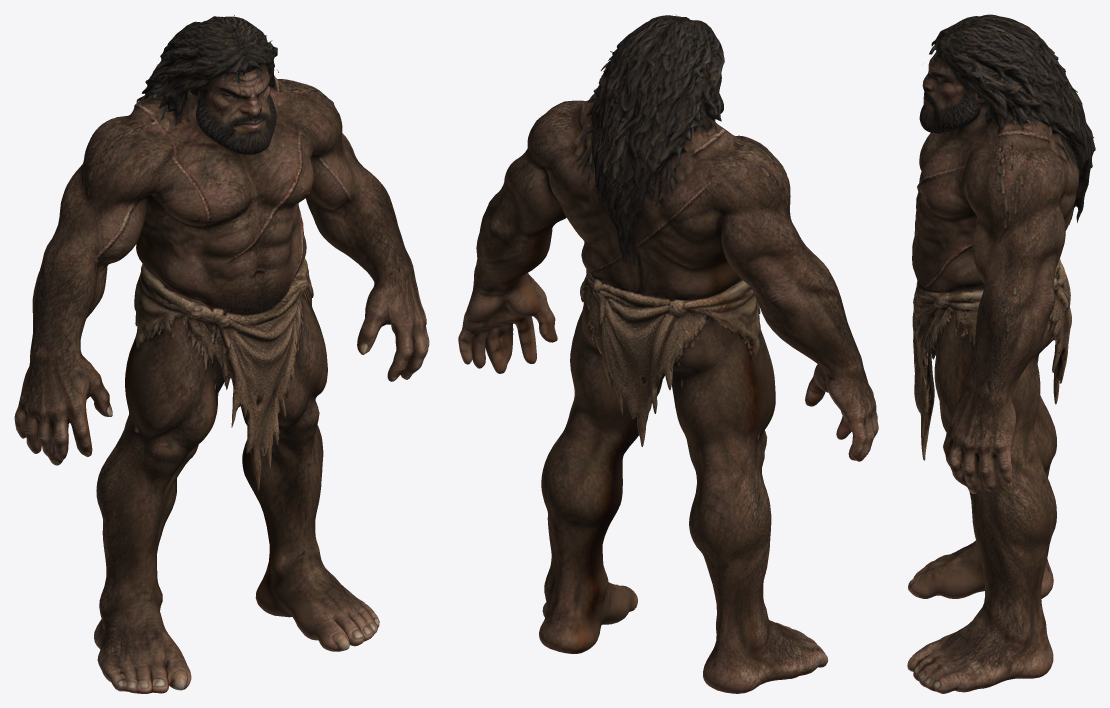
The model's file is kapre.glb.
The picture shows the model from 3 angles, left to right: view 1: azimuth 30°, elevation 25°; view 2: azimuth 150°, elevation 25°; view 3: azimuth 270°, elevation 25°; orthographic projection. The views are drawn at different scales.
Visible parts, largest first — view 1: kapre; view 2: kapre; view 3: kapre.
Part boxes in pixels (<box>): kapre: <box>14,15,429,693</box>; kapre: <box>458,15,878,693</box>; kapre: <box>907,14,1095,693</box>.
Size of the model in its own units: 0.6545 by 0.9756 by 0.2707.
1 material, 1 textured.
